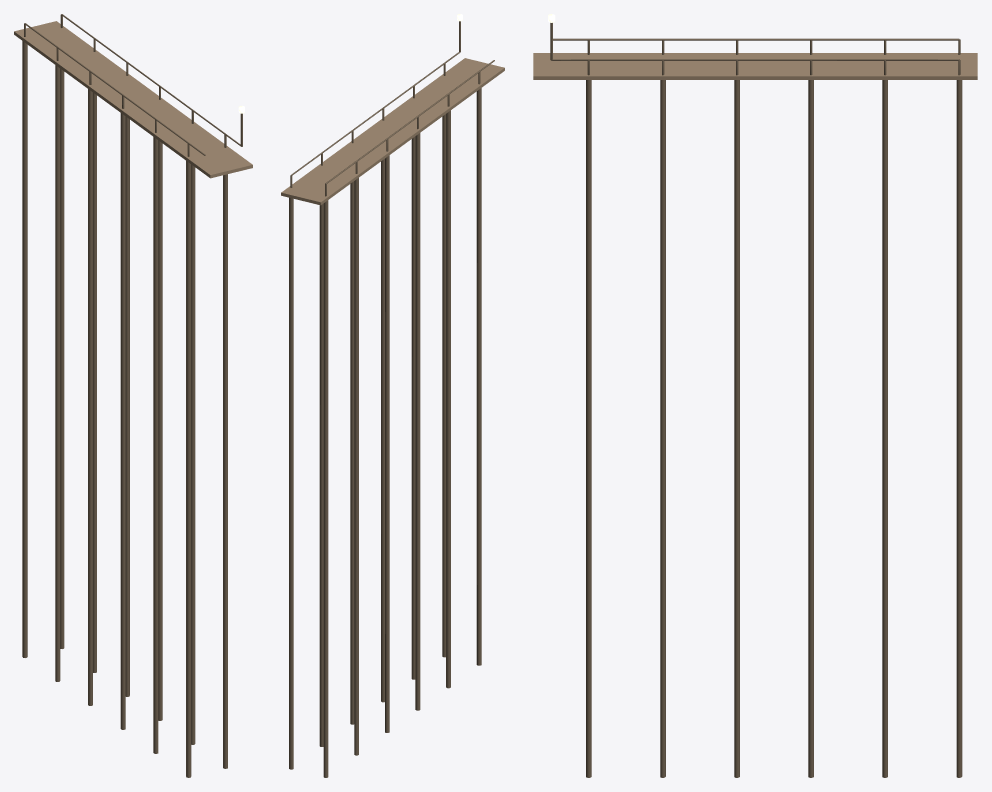
File: jetty.glb
3 views of the same model, side by side, from view 1: azimuth 30°, elevation 25°; view 2: azimuth 150°, elevation 25°; view 3: azimuth 270°, elevation 25° (orthographic). The views are drawn at different scales.
Visible parts, largest first — view 1: jetty; view 2: jetty; view 3: jetty.
Part boxes in pixels (x1,y1,x2,y2): jetty: (14, 14, 252, 777); jetty: (281, 14, 504, 777); jetty: (533, 14, 977, 777).
Bounding box in the file's own units: 3 × 45.35 × 24.
